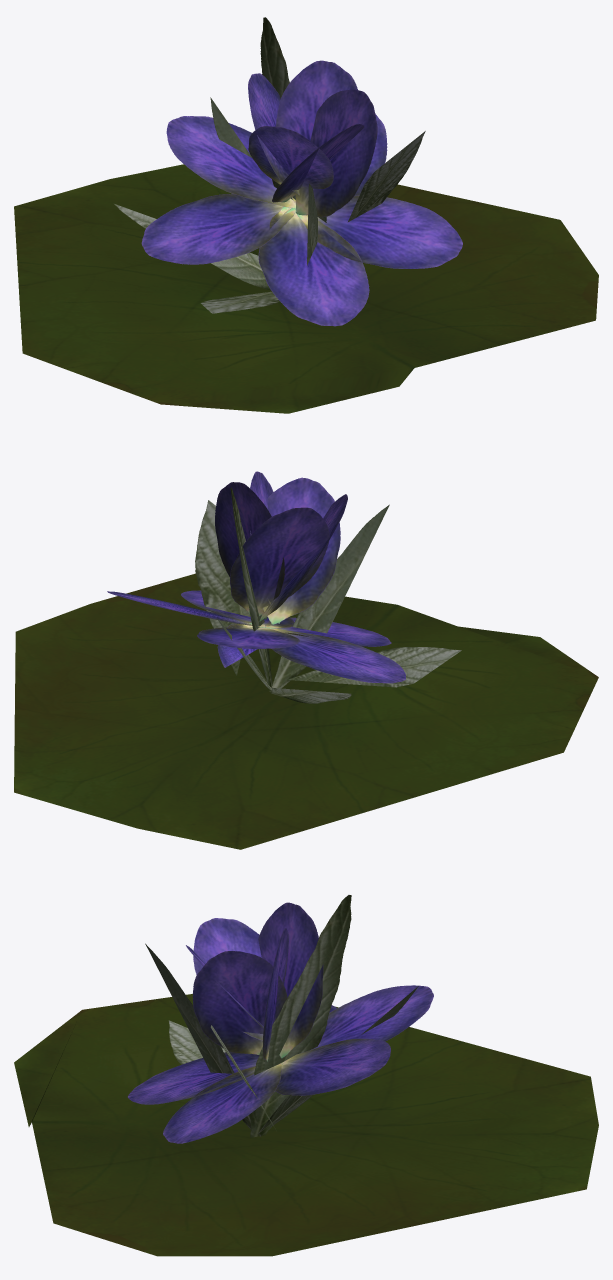
File: lillypad1_6_4_lod2.fbx
The picture shows the model from 3 angles, top to bottom: view 1: azimuth 30°, elevation 25°; view 2: azimuth 150°, elevation 25°; view 3: azimuth 270°, elevation 25°; orthographic projection.
Parts seen in each view (by area): view 1: Mesh Object; view 2: Mesh Object; view 3: Mesh Object.
Part boxes in pixels (x1,y1,x2,y2): Mesh Object: [14, 17, 598, 413]; Mesh Object: [14, 471, 598, 849]; Mesh Object: [14, 895, 598, 1256].
Size of the model in its own units: 1.01 by 0.6564 by 0.9385.
